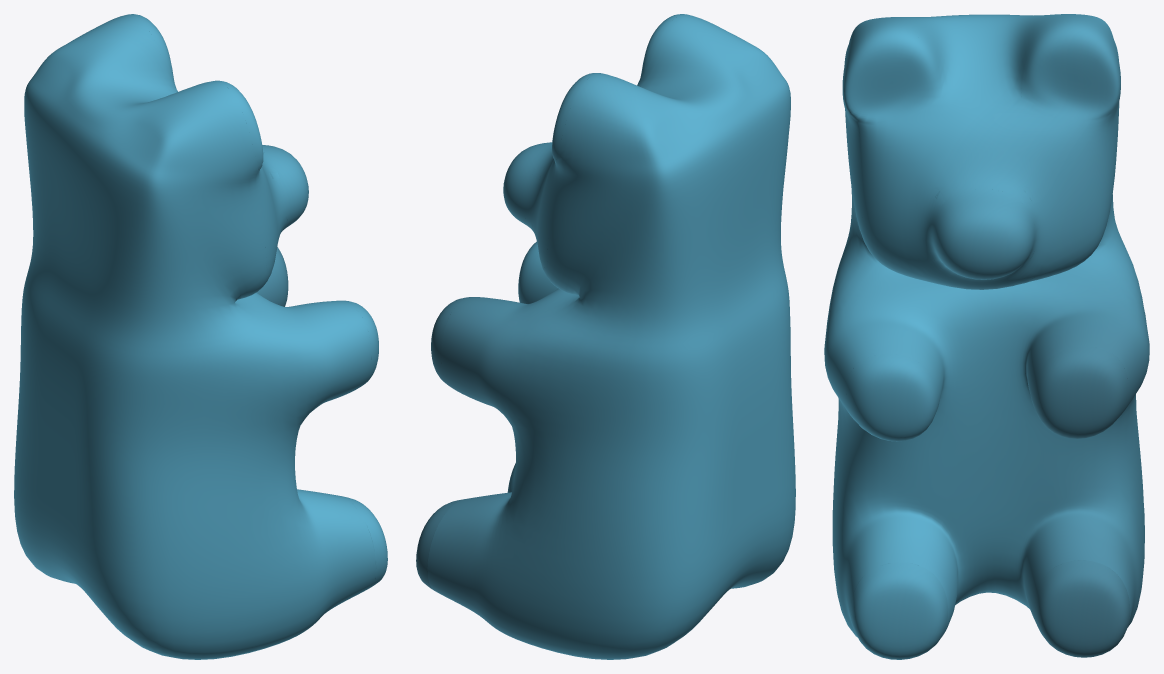
Rendered from Gummy Bear.fbx.
The picture shows the model from 3 angles, left to right: view 1: azimuth 30°, elevation 25°; view 2: azimuth 150°, elevation 25°; view 3: azimuth 270°, elevation 25°; orthographic projection. The views are drawn at different scales.
Visible parts, largest first — view 1: Gummy Bear.fav.005; view 2: Gummy Bear.fav.005; view 3: Gummy Bear.fav.005.
Boxes of the visible parts, x1,y1,x2,y2 form: Gummy Bear.fav.005: [14, 14, 387, 659]; Gummy Bear.fav.005: [416, 14, 795, 659]; Gummy Bear.fav.005: [824, 14, 1149, 659].
Bounding box in the file's own units: 218 × 429 × 214.
